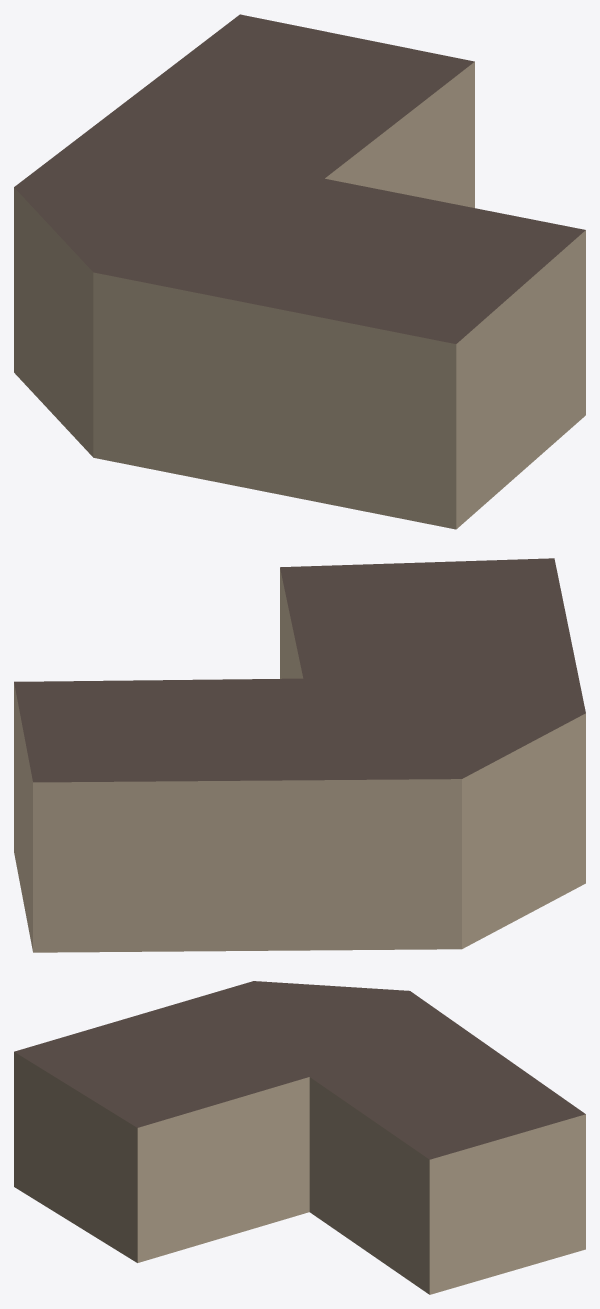
3 views of the same model, one above another, from view 1: azimuth 30°, elevation 25°; view 2: azimuth 150°, elevation 25°; view 3: azimuth 270°, elevation 25° (orthographic). The views are drawn at different scales.
Parts seen in each view (by area): view 1: HP-w1197065009; view 2: HP-w1197065009; view 3: HP-w1197065009.
Boxes of the visible parts, x1,y1,x2,y2 form: HP-w1197065009: [14, 14, 585, 529]; HP-w1197065009: [14, 558, 585, 952]; HP-w1197065009: [14, 981, 585, 1294].
Size of the model in its own units: 25.52 by 9 by 34.5.
